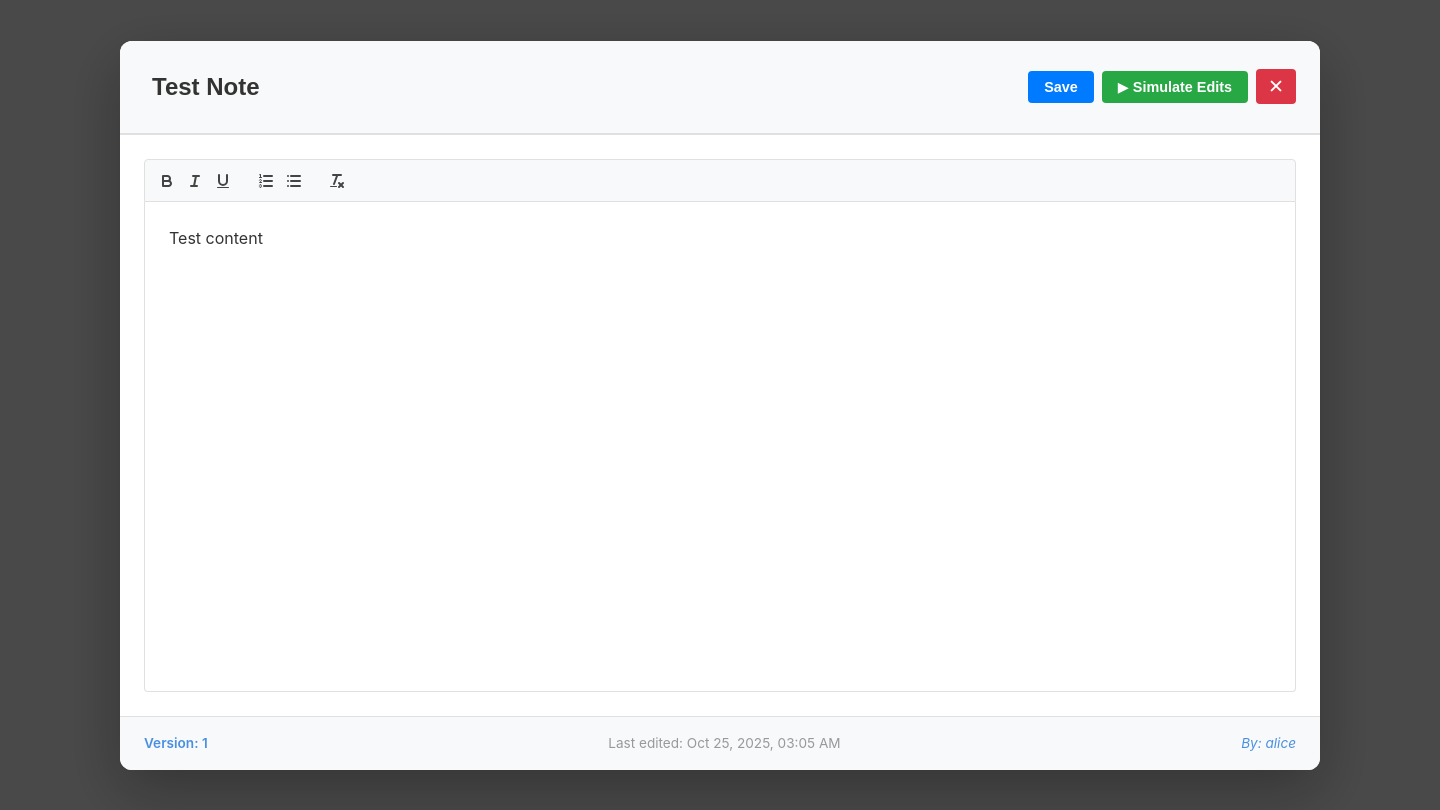
EditorModal › starts and stops edit simulation
Click the button "▶ Simulate Edits".
click(1175, 86)  # box [1102, 70, 1248, 102]
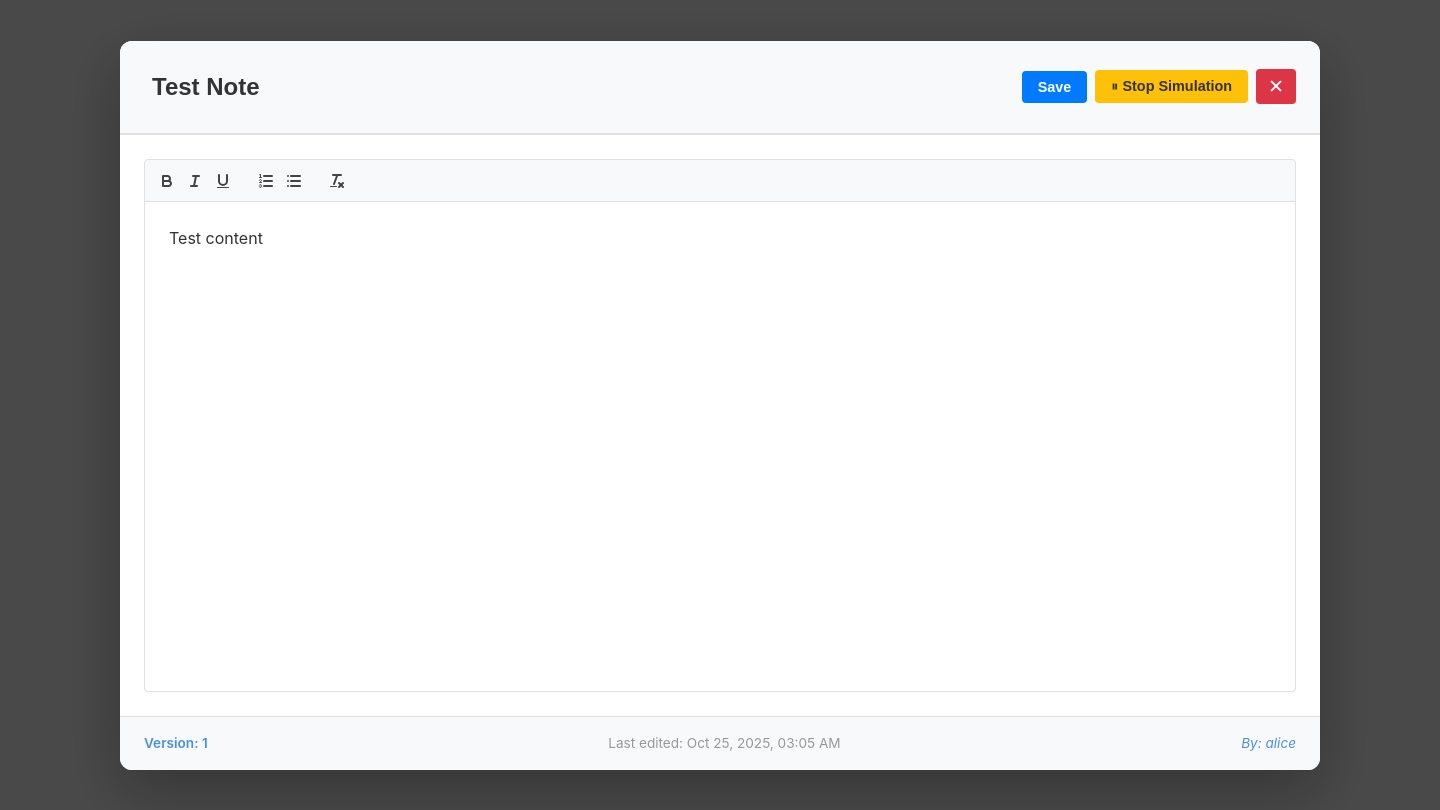
Check: the button "⏸ Stop Simulation" is shown
Click the button "⏸ Stop Simulation".
click(1172, 86)  # box [1095, 70, 1248, 103]
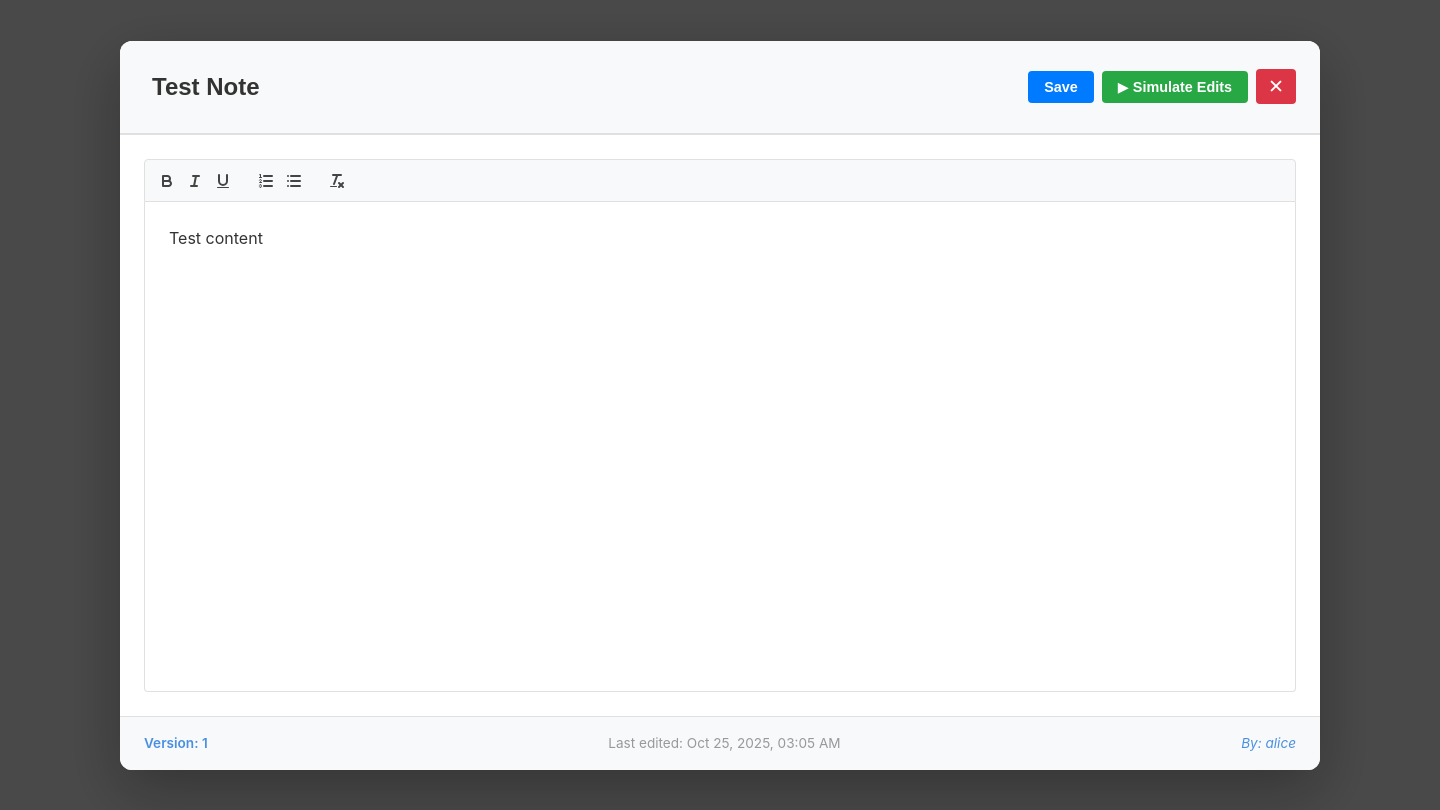
Check: the button "▶ Simulate Edits" is shown, box [1102, 70, 1248, 102]
